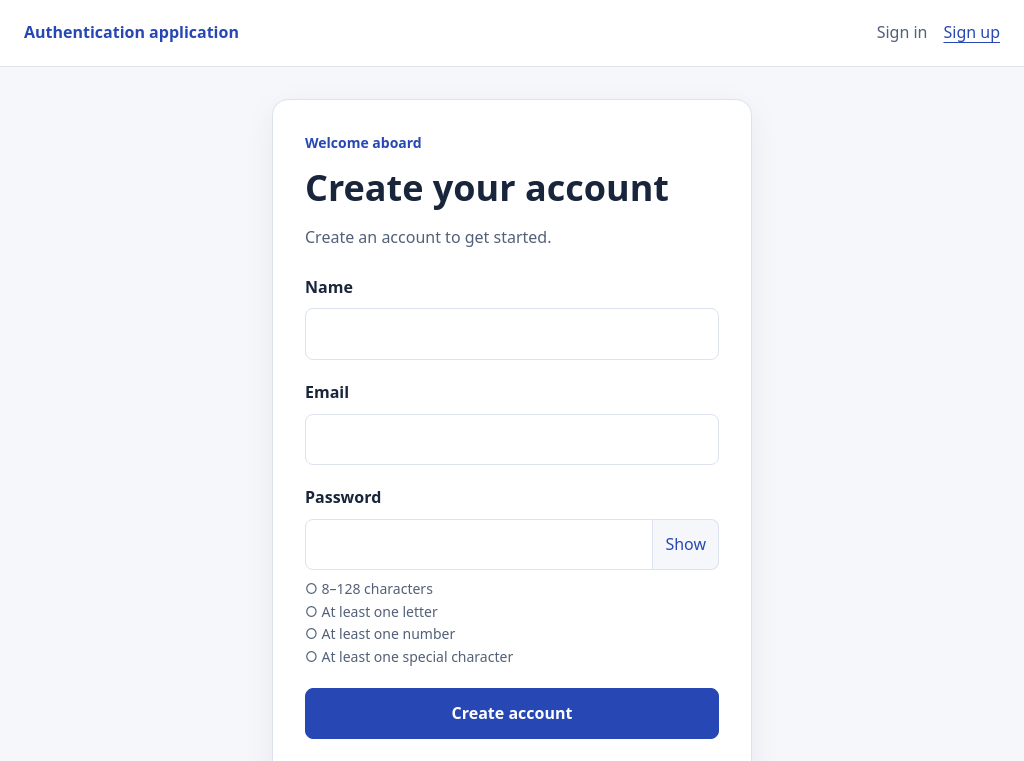
Test: maps backend validation errors to fields and focuses the first invalid field
In the field labelled "Name": [512, 334] box [305,308,719,360], type "Test Person"
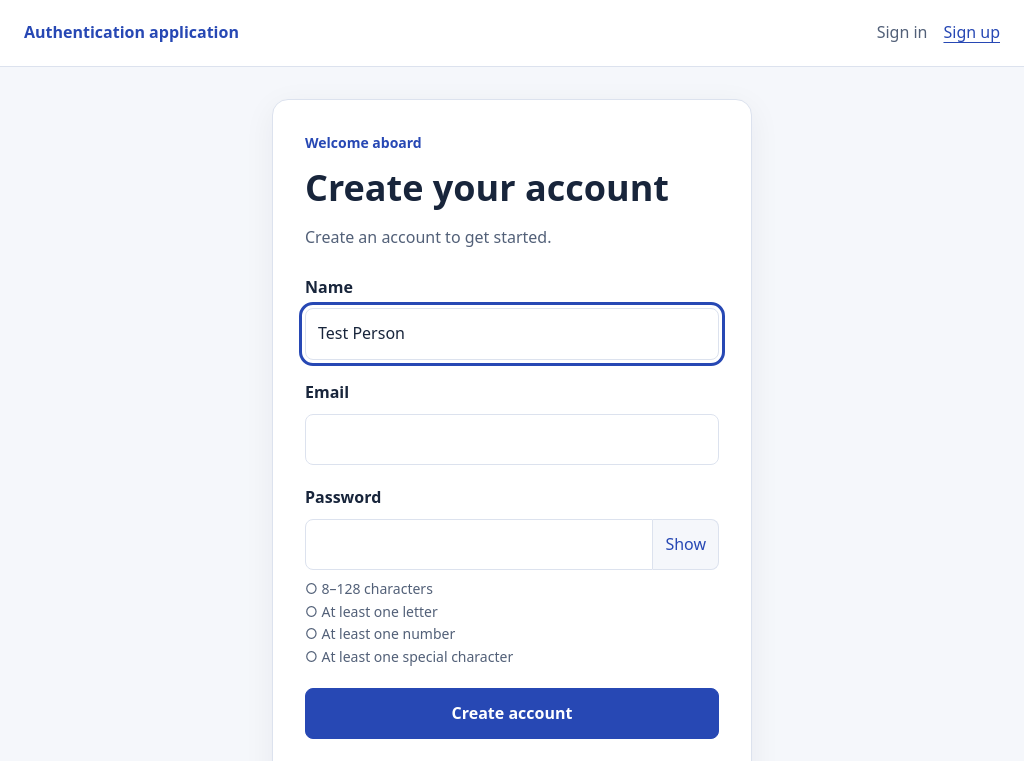
In the field labelled "Email": [512, 439] box [305,414,719,465], type "Person@EXAMPLE.COM"
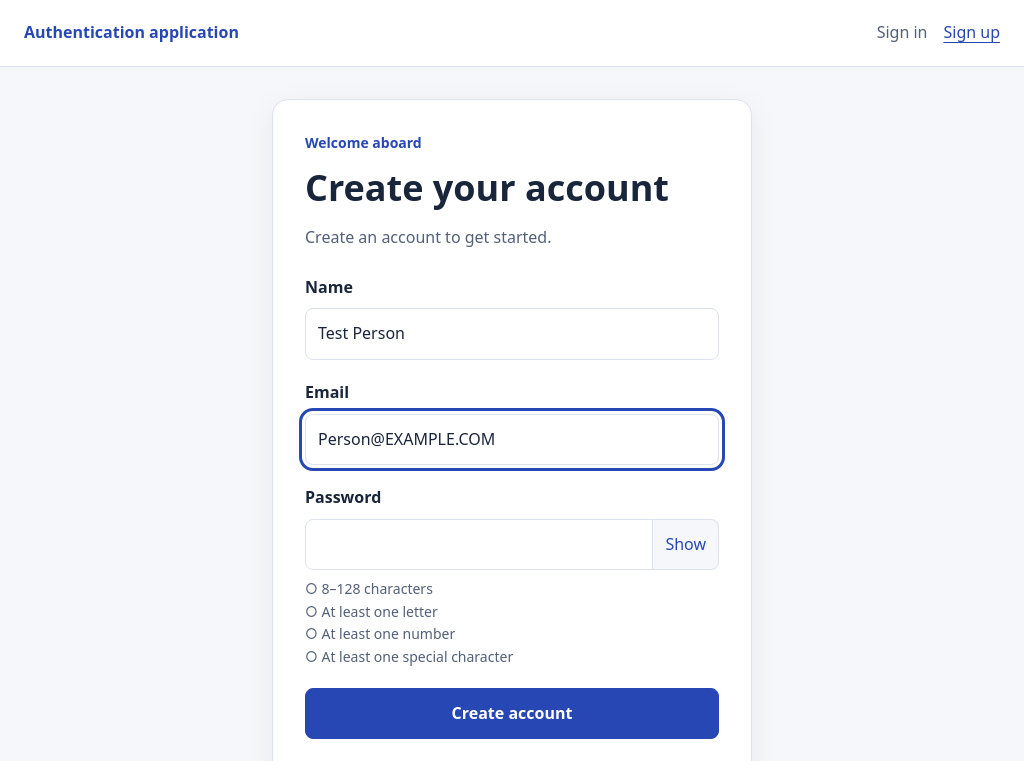
In the password field labelled "Password": [479, 544] box [305,519,653,570], type " Password42! "
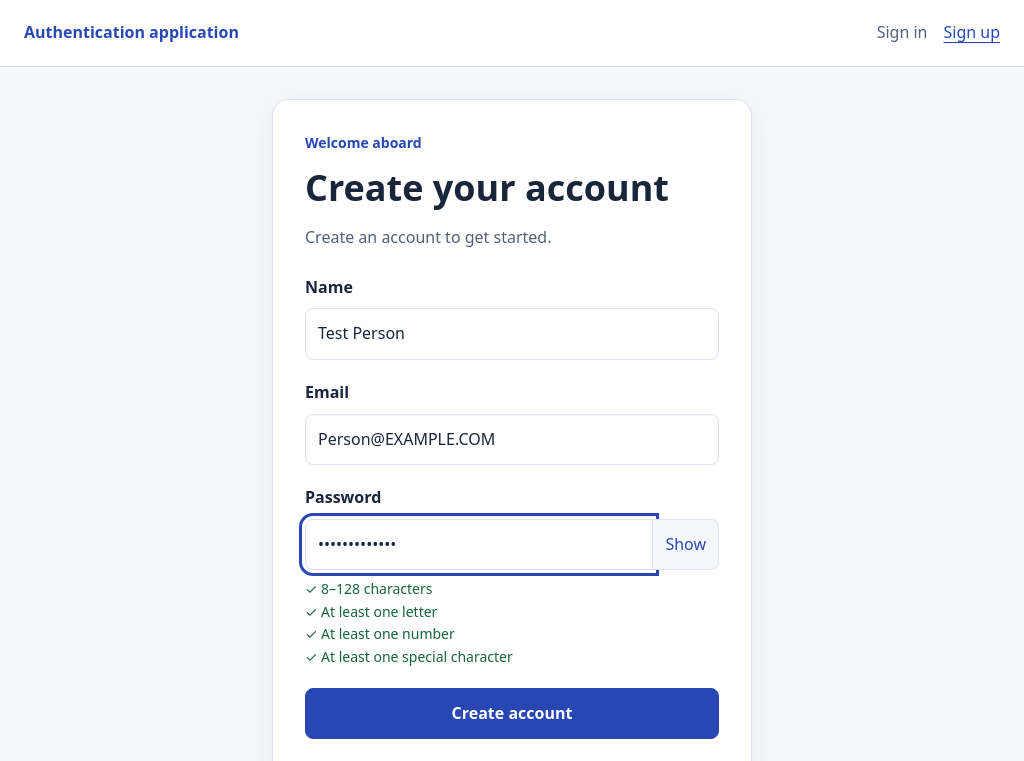
Click the button "Create account": [512, 714] box [305,688,719,740]
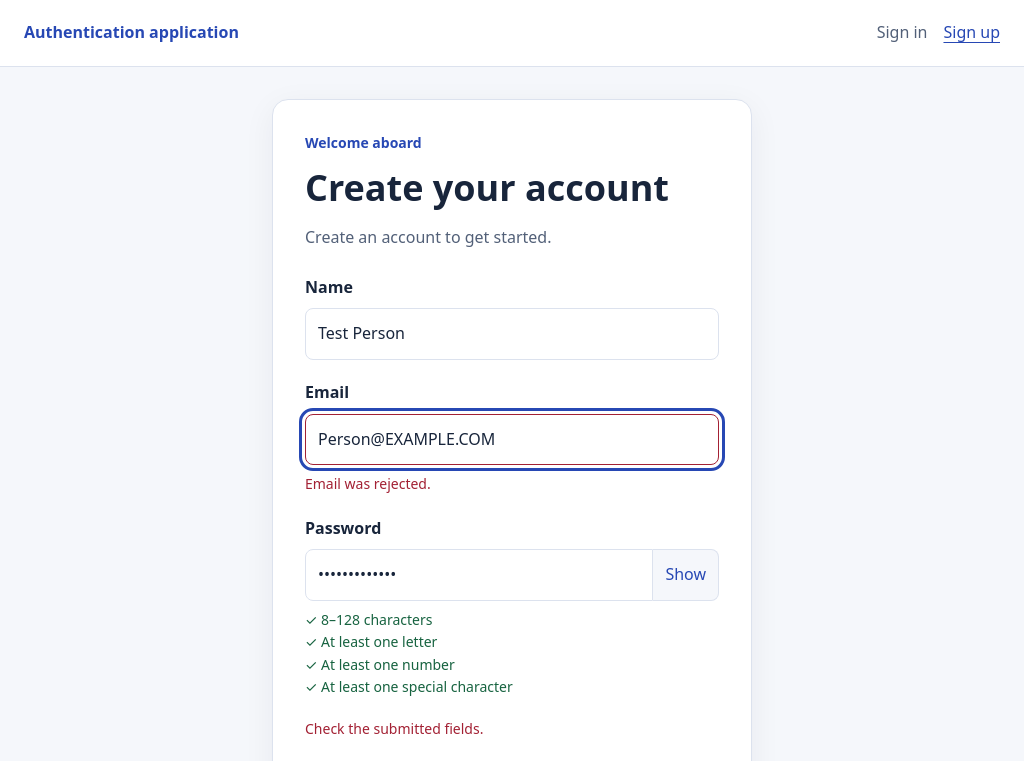
Check: the text "Email was rejected." is shown, box [305,474,431,493]
